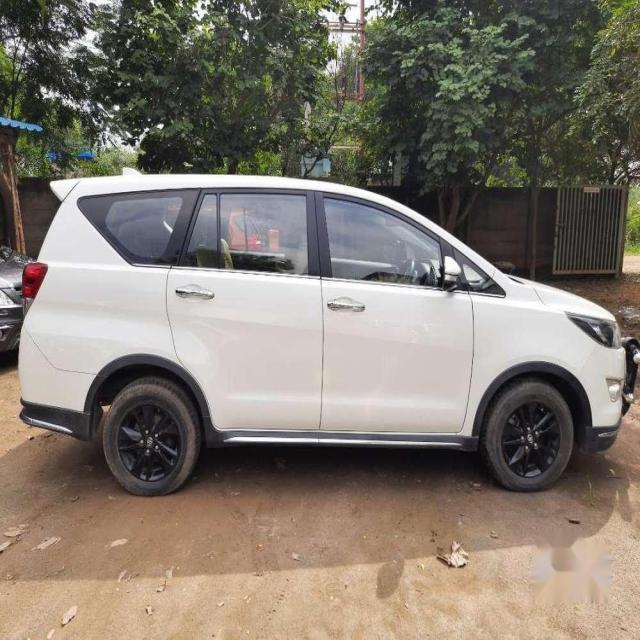light_vehicle: (16, 172, 636, 497)
